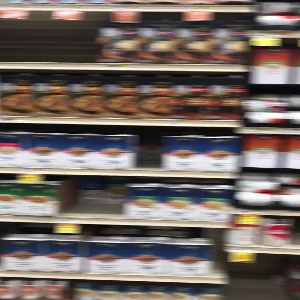void: (1, 10, 95, 67), (58, 175, 122, 221), (223, 254, 287, 300), (135, 126, 163, 177)
